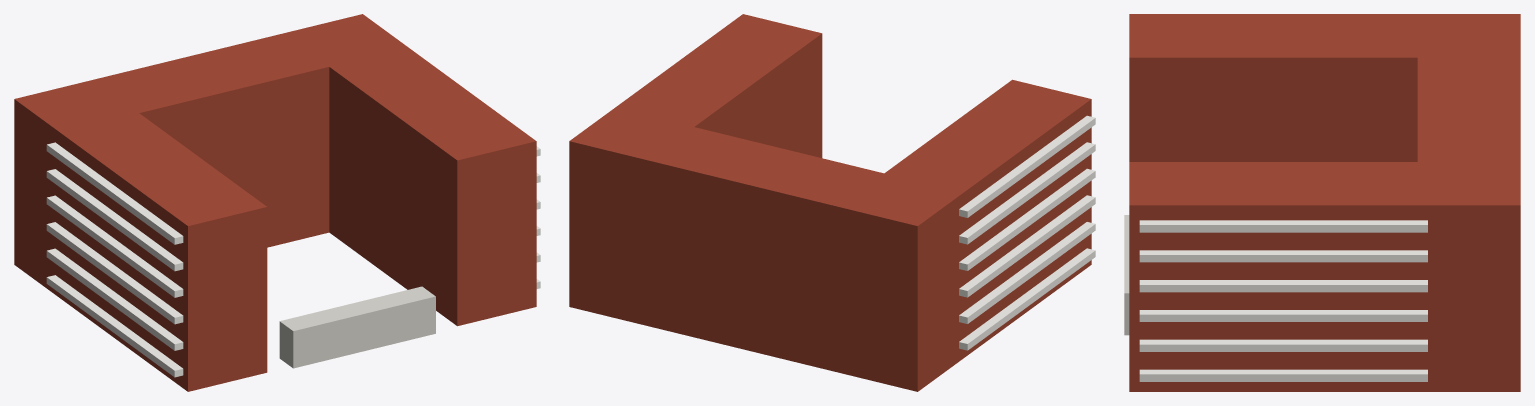
Rendered from mega-girls-hostel.glb.
3 views of the same model, side by side, from view 1: azimuth 30°, elevation 25°; view 2: azimuth 150°, elevation 25°; view 3: azimuth 270°, elevation 25° (orthographic). The views are drawn at different scales.
Visible parts, largest first — view 1: Mega_Girls_Hostel_MGH; view 2: Mega_Girls_Hostel_MGH; view 3: Mega_Girls_Hostel_MGH.
Boxes of the visible parts, left/top/right/bottom form: Mega_Girls_Hostel_MGH: left=14, top=14, right=540, bottom=391; Mega_Girls_Hostel_MGH: left=569, top=14, right=1095, bottom=391; Mega_Girls_Hostel_MGH: left=1124, top=14, right=1520, bottom=391.
Size of the model in its own units: 46.2 by 20 by 38.5.
